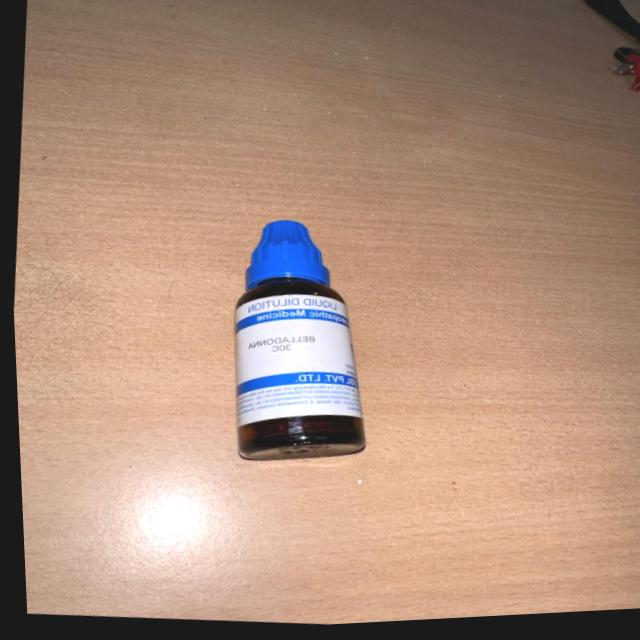medicine: (201, 204, 383, 465)
